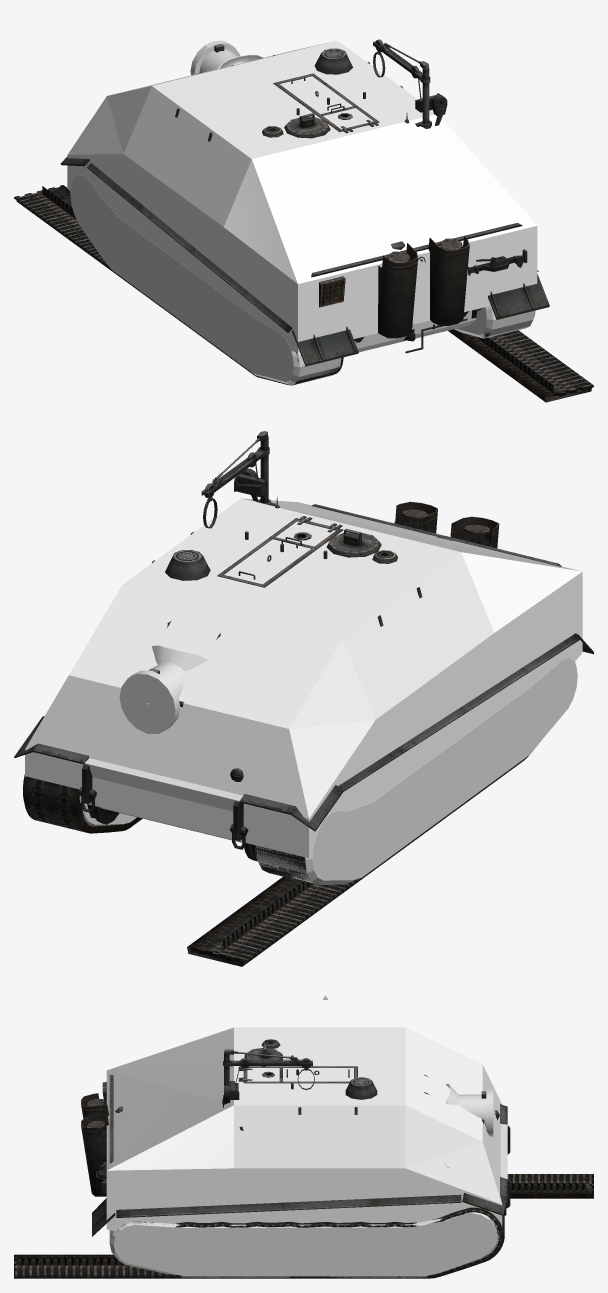
The model's file is germany10_sturmtiger.glb.
3 views of the same model, one above another, from view 1: azimuth 30°, elevation 25°; view 2: azimuth 150°, elevation 25°; view 3: azimuth 270°, elevation 25° (orthographic). The views are drawn at different scales.
Visible parts, largest first — view 1: e100_hull_phys, hull_vis, _module_tracks_20, tracks_crash, _gun_mask_350, _sturmtiger_hull_armor_80; view 2: e100_hull_phys, _module_tracks_20, hull_vis, tracks_crash, _gun_mask_350, _sturmtiger_hull_armor_150, _sturmtiger_hull_armor_60, trackL; view 3: e100_hull_phys, _module_tracks_20, hull_vis, tracks_crash, _gun_mask_350, _sturmtiger_hull_armor_60.
Part boxes in pixels (left/top/right/bottom): e100_hull_phys: left=67, top=40, right=537, bottom=352; hull_vis: left=60, top=39, right=549, bottom=366; _module_tracks_20: left=70, top=175, right=535, bottom=385; tracks_crash: left=14, top=185, right=593, bottom=402; _gun_mask_350: left=190, top=40, right=264, bottom=75; _sturmtiger_hull_armor_80: left=354, top=310, right=475, bottom=348; e100_hull_phys: left=25, top=498, right=582, bottom=858; _module_tracks_20: left=82, top=657, right=577, bottom=884; hull_vis: left=14, top=431, right=593, bottom=861; tracks_crash: left=23, top=746, right=536, bottom=966; _gun_mask_350: left=119, top=645, right=208, bottom=733; _sturmtiger_hull_armor_150: left=84, top=763, right=242, bottom=842; _sturmtiger_hull_armor_60: left=85, top=758, right=242, bottom=801; trackL: left=254, top=845, right=316, bottom=884; e100_hull_phys: left=106, top=1027, right=502, bottom=1231; _module_tracks_20: left=109, top=1212, right=499, bottom=1277; hull_vis: left=81, top=1039, right=510, bottom=1236; tracks_crash: left=14, top=1174, right=593, bottom=1278; _gun_mask_350: left=446, top=1084, right=493, bottom=1136; _sturmtiger_hull_armor_60: left=500, top=1123, right=507, bottom=1179.
Bounding box in the file's own units: 37.42 × 38.87 × 86.39.
23 materials, 2 textured.
